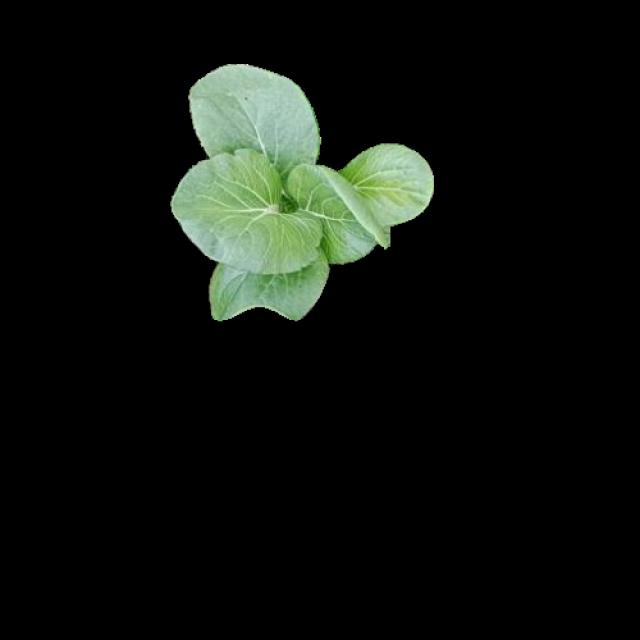healthy: (170, 62, 429, 318)
not-mature: (173, 66, 431, 322)
